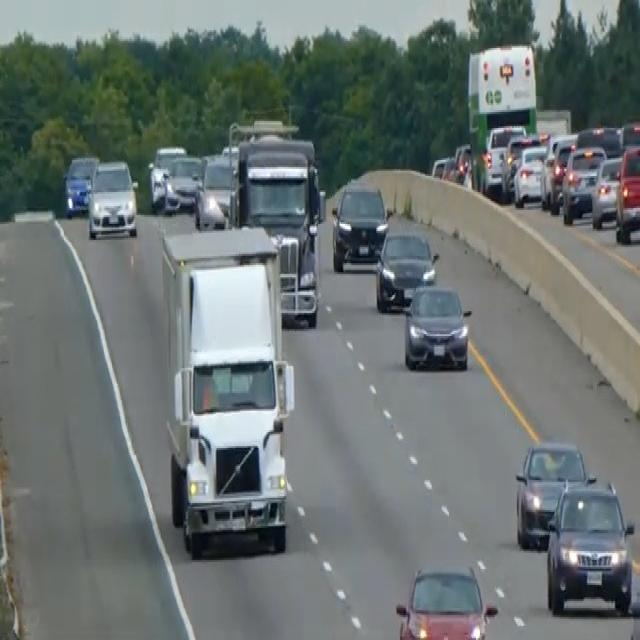bus: (465, 41, 539, 194)
car: (544, 477, 634, 615), (514, 438, 590, 550), (394, 562, 497, 638), (402, 281, 471, 371), (374, 226, 438, 311), (331, 178, 388, 270), (87, 156, 138, 238), (561, 142, 606, 224), (193, 151, 235, 229), (482, 121, 525, 194), (539, 132, 577, 212), (147, 142, 186, 210), (614, 142, 639, 244), (590, 153, 623, 227), (162, 153, 202, 213), (63, 153, 98, 217), (512, 146, 547, 206), (147, 158, 167, 212), (451, 142, 471, 185)
lorry: (159, 222, 295, 558)
